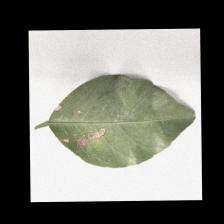canker: (51, 98, 114, 161)
